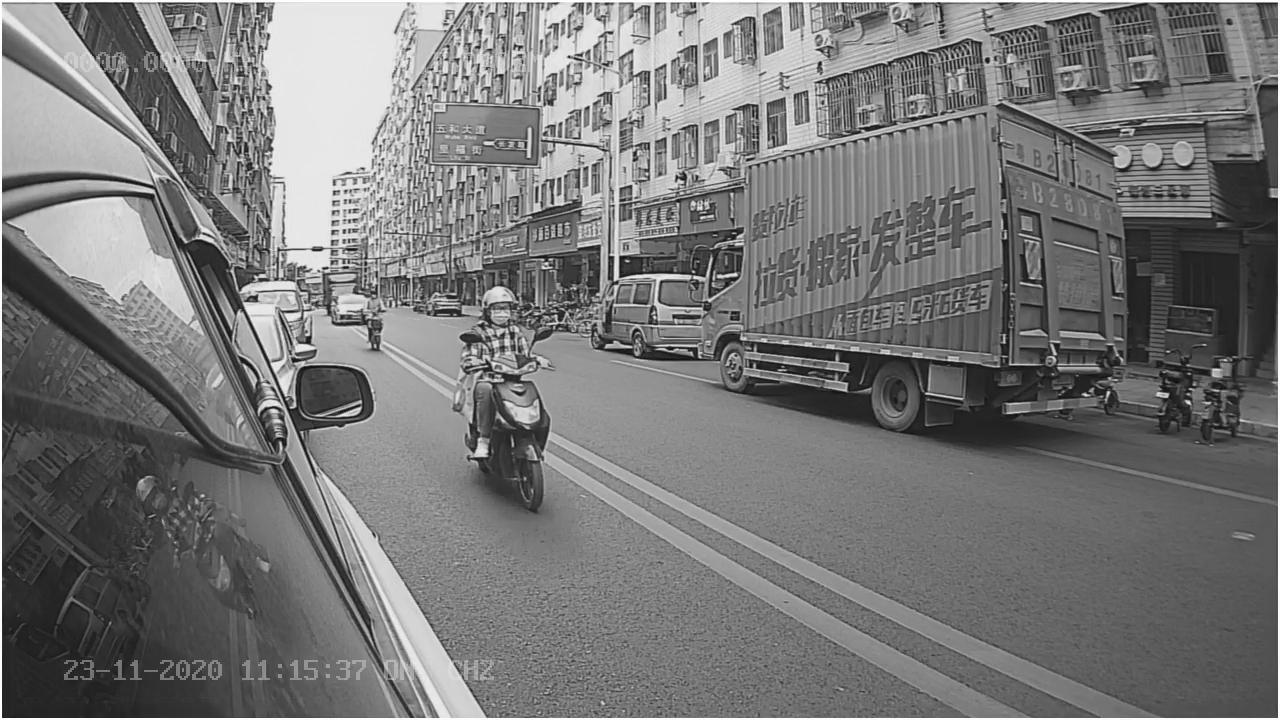person: (450, 280, 560, 363)
